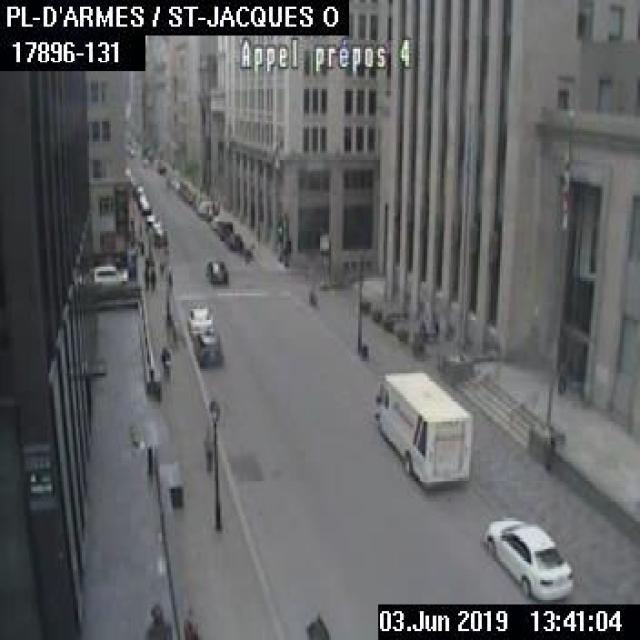pedestrian: (180, 600, 198, 638), (158, 344, 169, 377), (148, 268, 156, 288), (142, 266, 148, 288)
vehicle: (371, 366, 473, 486), (483, 514, 572, 598), (192, 328, 222, 364), (187, 304, 213, 334), (92, 263, 124, 282), (204, 258, 227, 284), (216, 216, 232, 238), (226, 231, 242, 250), (152, 226, 166, 244), (208, 214, 219, 228), (138, 200, 150, 212), (136, 192, 146, 204), (145, 214, 157, 224), (132, 183, 141, 196), (150, 220, 160, 228)
